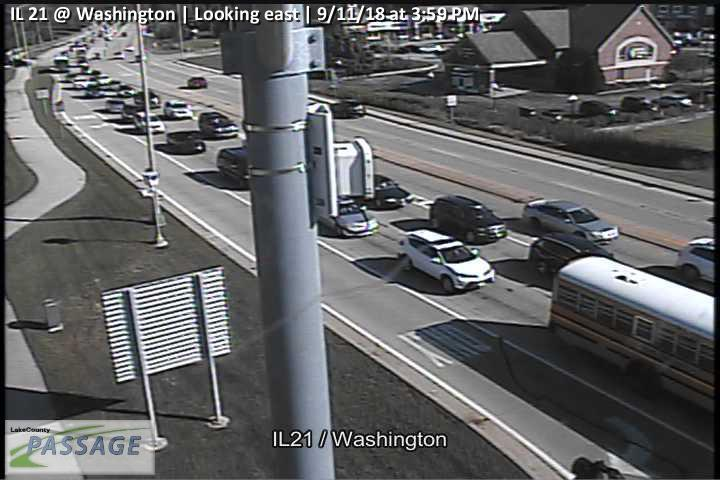Bus: (546, 256, 716, 411)
SUV: (397, 229, 496, 294), (528, 231, 617, 276), (428, 194, 508, 244), (676, 237, 716, 283), (216, 146, 250, 187), (198, 111, 239, 137), (133, 111, 166, 134), (329, 100, 366, 120), (163, 99, 194, 119)
Sedan: (522, 199, 620, 244), (319, 197, 380, 238), (367, 173, 415, 209), (166, 131, 206, 154), (122, 104, 143, 122), (106, 98, 126, 113), (187, 76, 207, 89)
